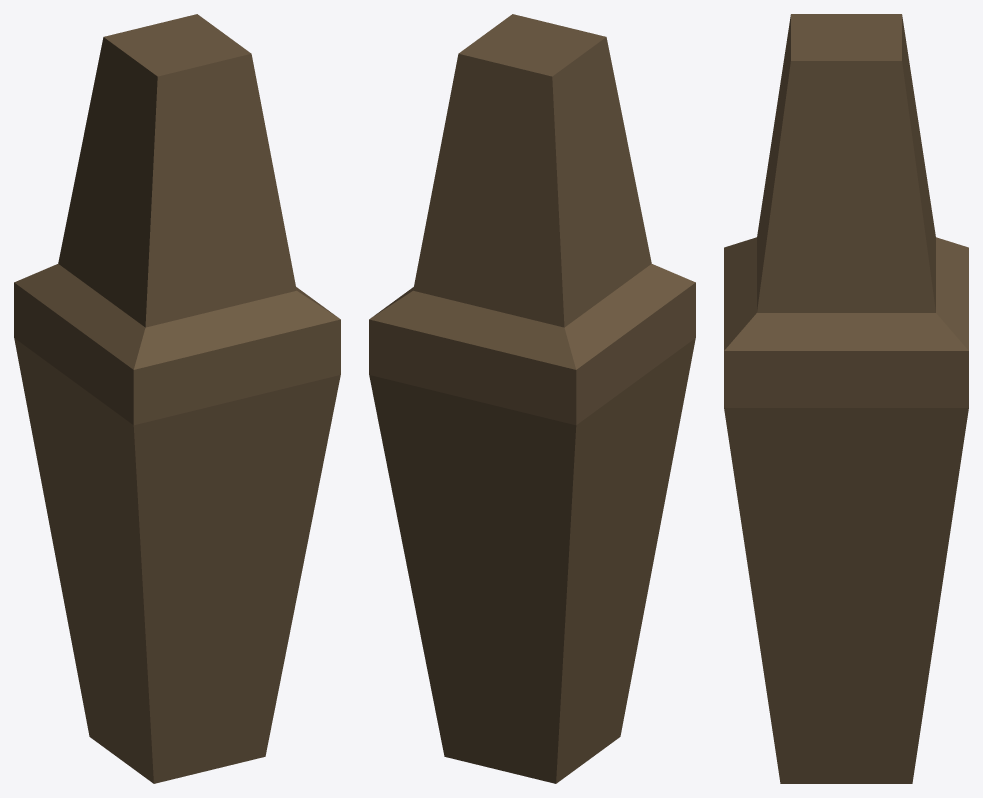
Rendered from elven_SM_Bld_Roof_Cresting_01_Corner_70.gltf.
The picture shows the model from 3 angles, left to right: view 1: azimuth 30°, elevation 25°; view 2: azimuth 150°, elevation 25°; view 3: azimuth 270°, elevation 25°; orthographic projection. The views are drawn at different scales.
Parts seen in each view (by area): view 1: SM_Bld_Roof_Cresting_01_Corner_70; view 2: SM_Bld_Roof_Cresting_01_Corner_70; view 3: SM_Bld_Roof_Cresting_01_Corner_70.
Boxes of the visible parts, x1=… form: SM_Bld_Roof_Cresting_01_Corner_70: x1=14, y1=14, x2=340, y2=783; SM_Bld_Roof_Cresting_01_Corner_70: x1=369, y1=14, x2=695, y2=783; SM_Bld_Roof_Cresting_01_Corner_70: x1=724, y1=14, x2=968, y2=783.
Bounding box in the file's own units: 0.4304 × 1.39 × 0.4304.
1 material, 1 textured.
